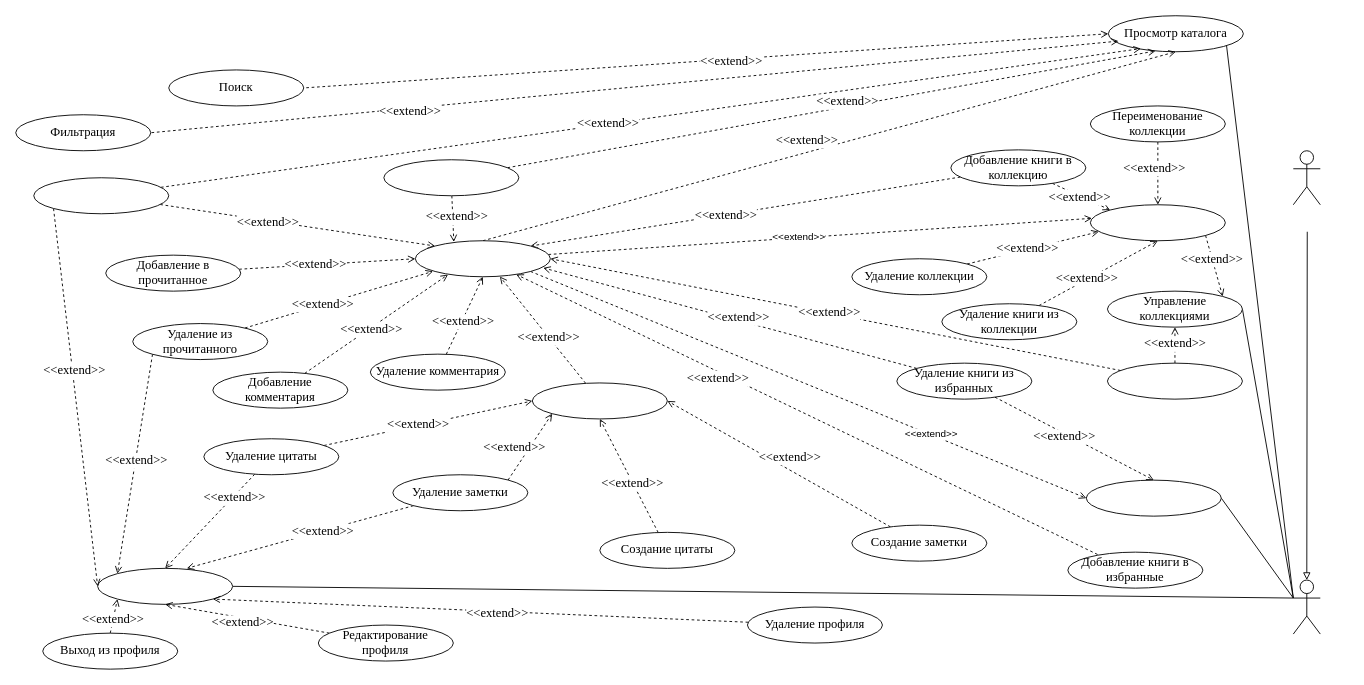
Image size: 1364x685. Some labels were removed from this diagram. Each missing label, with the centre of its shape:
"Администратор" goes at (x=1306, y=177).
"Взаимодействие с книгой" goes at (x=482, y=258).
"Добавление книги в библиотеку" goes at (x=451, y=177).
"Пользователь" goes at (x=1306, y=606).
"Создание коллекции" goes at (x=1174, y=380).
"Удаление из библиотеки" goes at (x=101, y=195).
"Управление избранными" goes at (x=1153, y=497).
"Управление коллекцией" goes at (x=1157, y=222).
"Управление профилем" goes at (x=165, y=585).
"Чтение книги" goes at (x=599, y=400).
